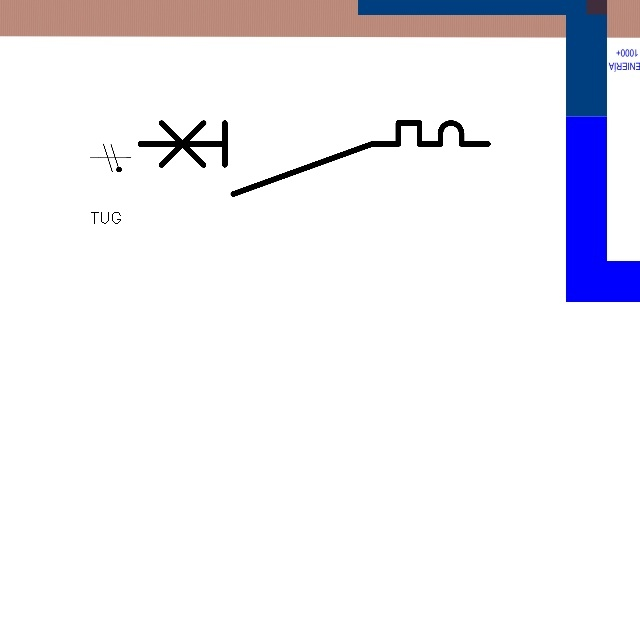interruptor_termomagnetico: (131, 114, 496, 203)
